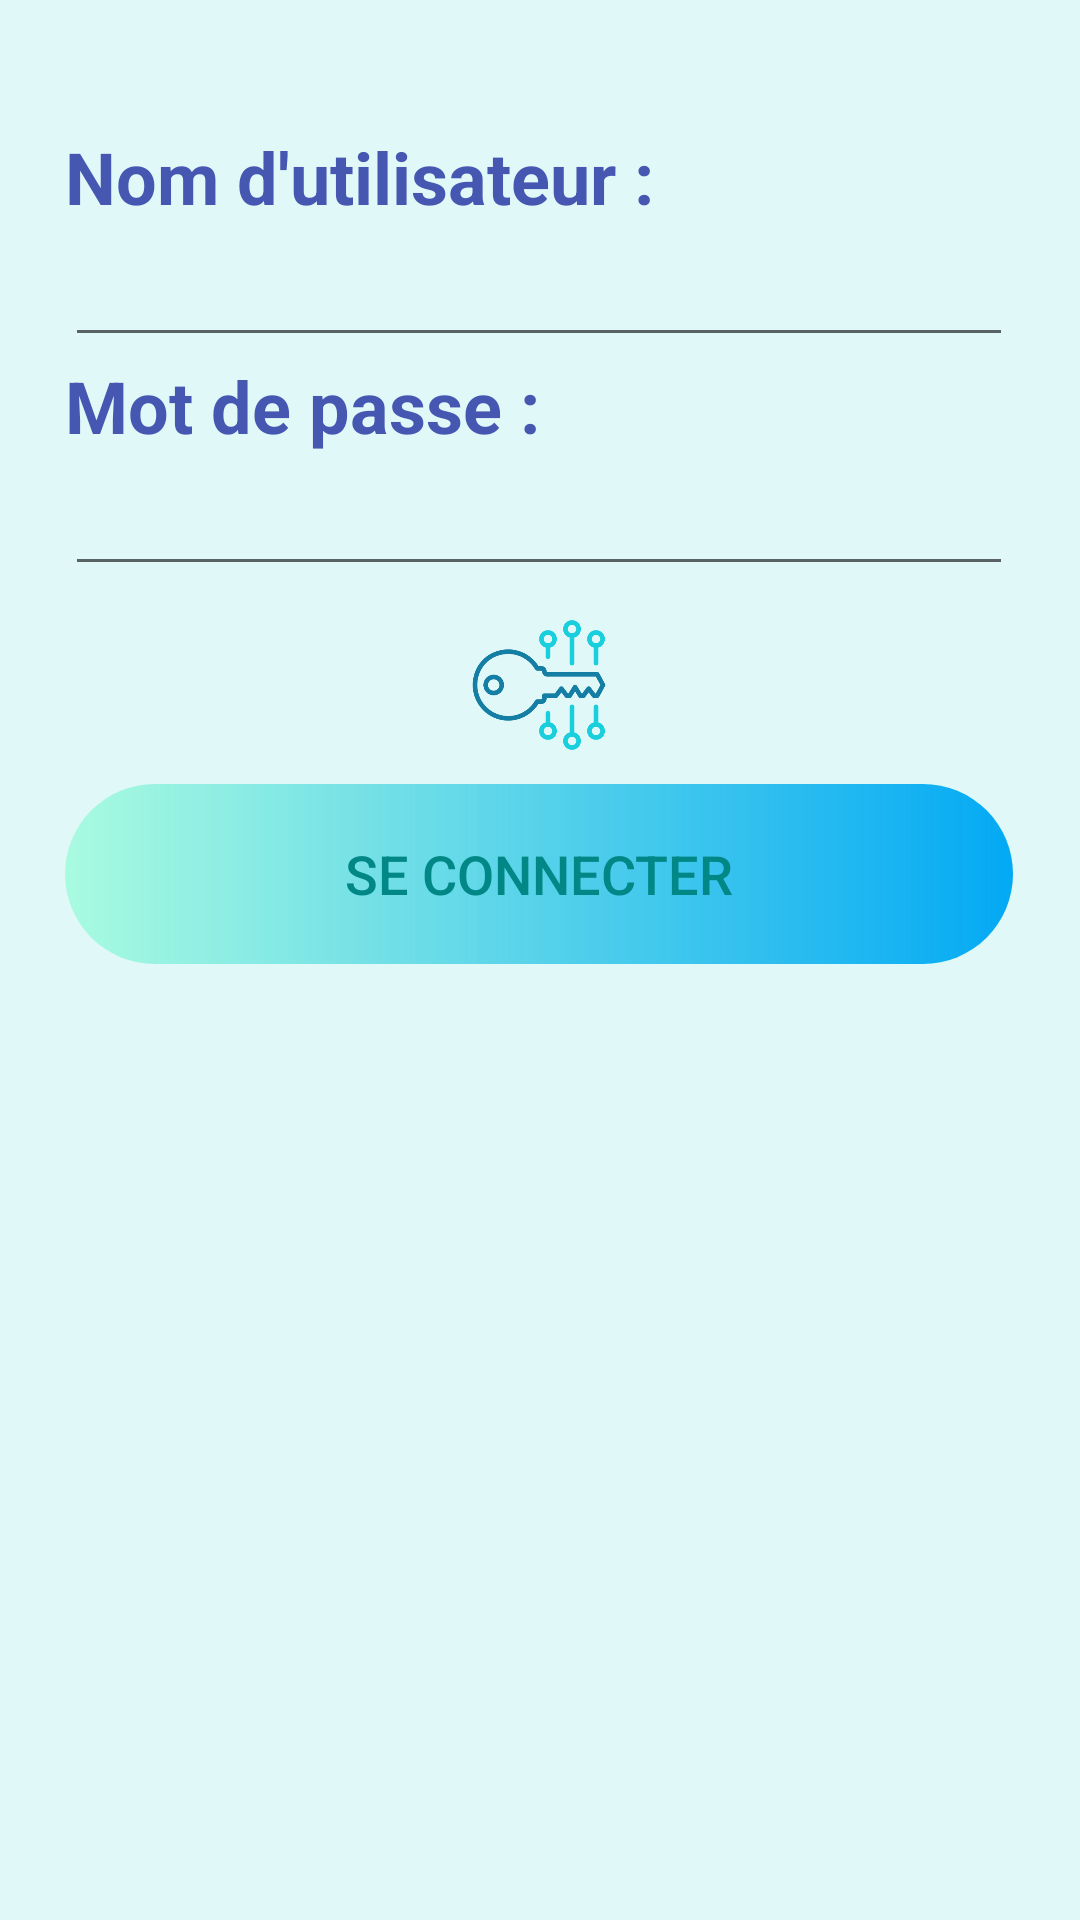

Named icons in this screenshot (1080*1920) and their bounding boxes, {"left": x1, "top": y1, "right": x2, "bottom": y2}:
key: {"left": 472, "top": 620, "right": 606, "bottom": 750}
